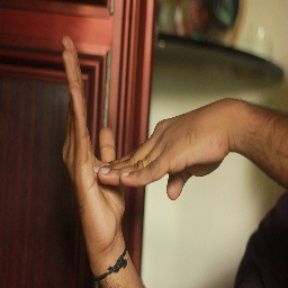Z: (54, 36, 228, 241)
